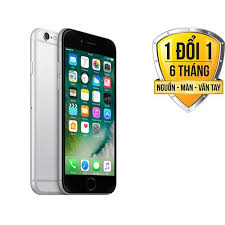iphone6: (27, 24, 120, 198), (55, 24, 118, 196)
